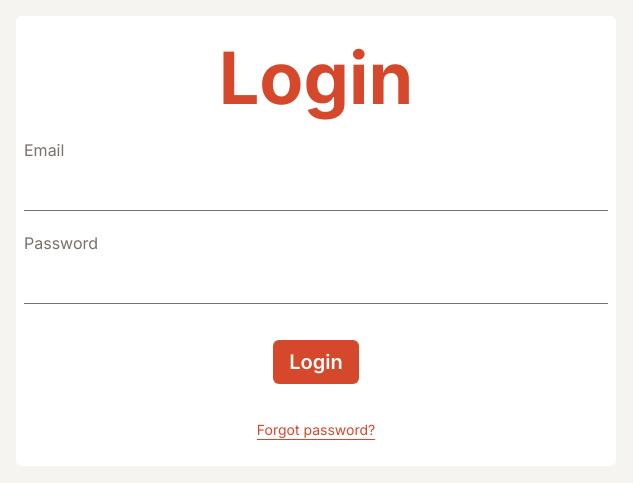
Scenario: shows login failures inline and releases its button
The image size is (633, 483).
Type "test@example.com" into the field labelled "Email" at [316, 190], box [24,170,608,211]
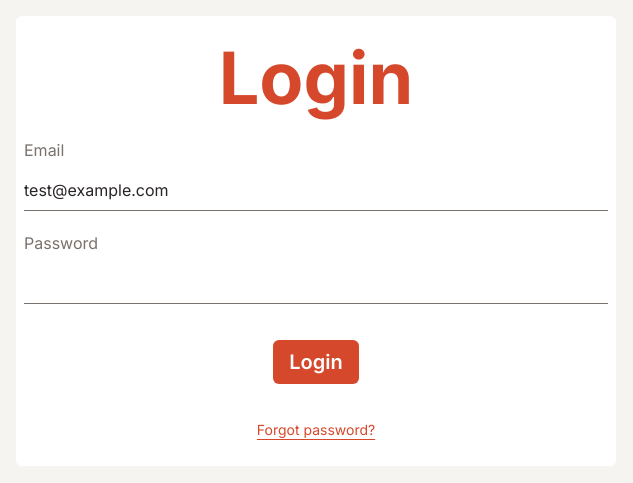
Type "wrong-password" into the password field labelled "Password" at [316, 284], box [24,263,608,304]
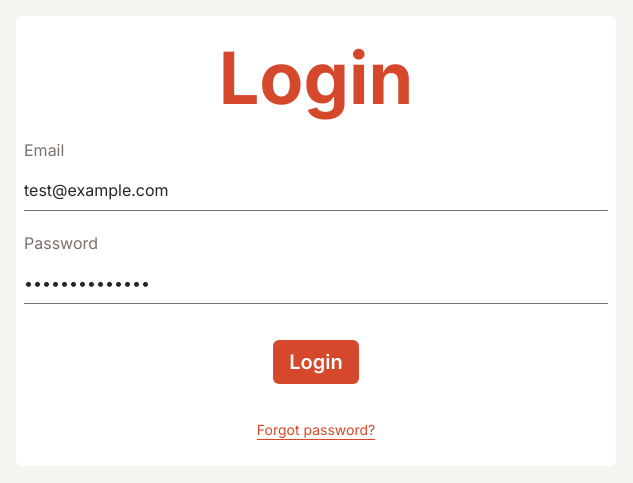
Submit the form, box [24,138,608,440]
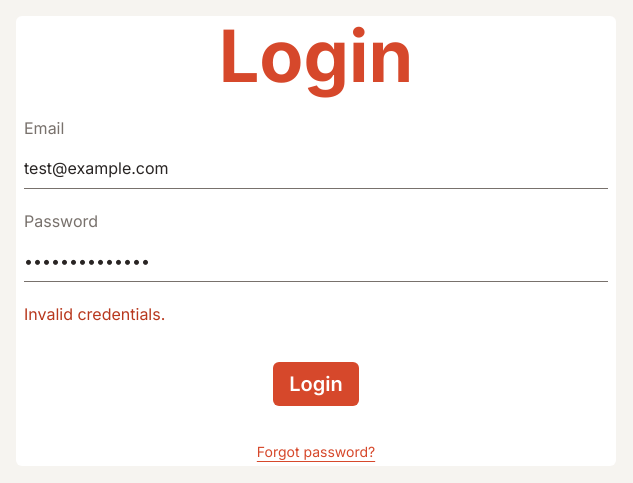
Check: the button "Login" is enabled, box [273,362,359,406]
Check: the message reads "Invalid credentials.", box [24,304,165,324]
